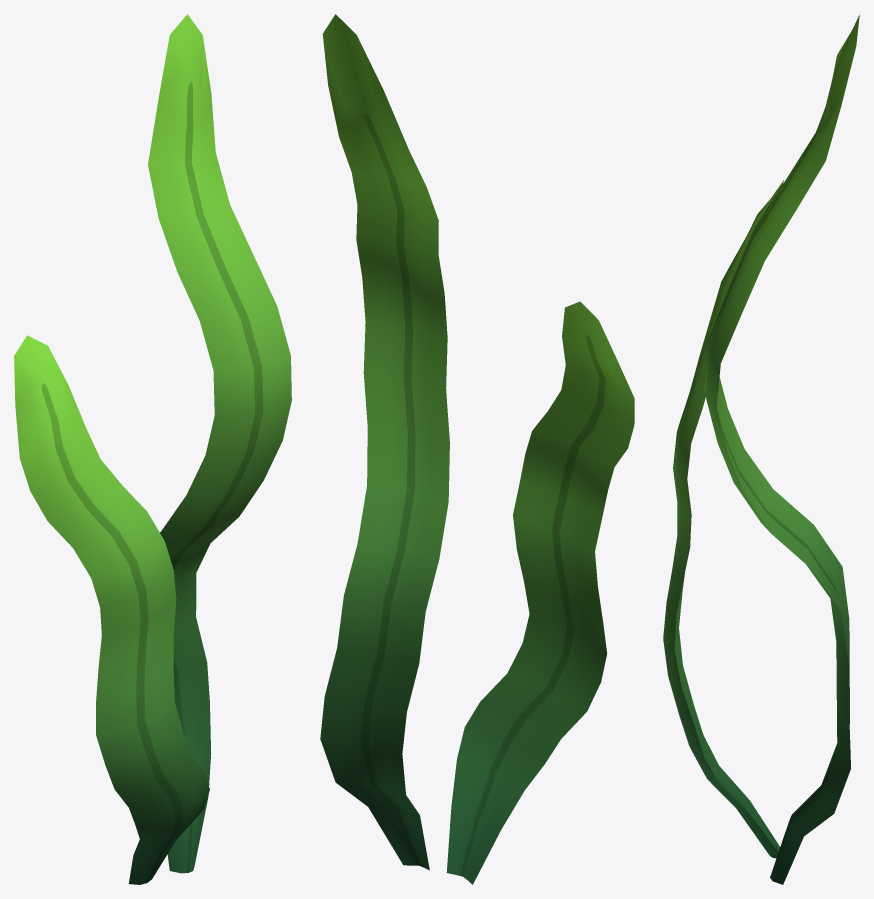
Rendered from SM_Seaweed_Bunch01.fbx.
3 views of the same model, side by side, from view 1: azimuth 30°, elevation 25°; view 2: azimuth 150°, elevation 25°; view 3: azimuth 270°, elevation 25° (orthographic). The views are drawn at different scales.
Visible parts, largest first — view 1: Seaweed_Base14, Seaweed_Base11; view 2: Seaweed_Base14, Seaweed_Base11; view 3: Seaweed_Base14, Seaweed_Base11.
Boxes of the visible parts, x1,y1,x2,y2 form: Seaweed_Base14: (148,14,291,873); Seaweed_Base11: (14,335,209,884); Seaweed_Base14: (320,14,449,870); Seaweed_Base11: (446,301,634,884); Seaweed_Base14: (703,15,859,884); Seaweed_Base11: (663,180,783,858).
Size of the model in its own units: 1.61 by 4.8 by 0.9623.
Materials: 1 (1 with a texture image).
